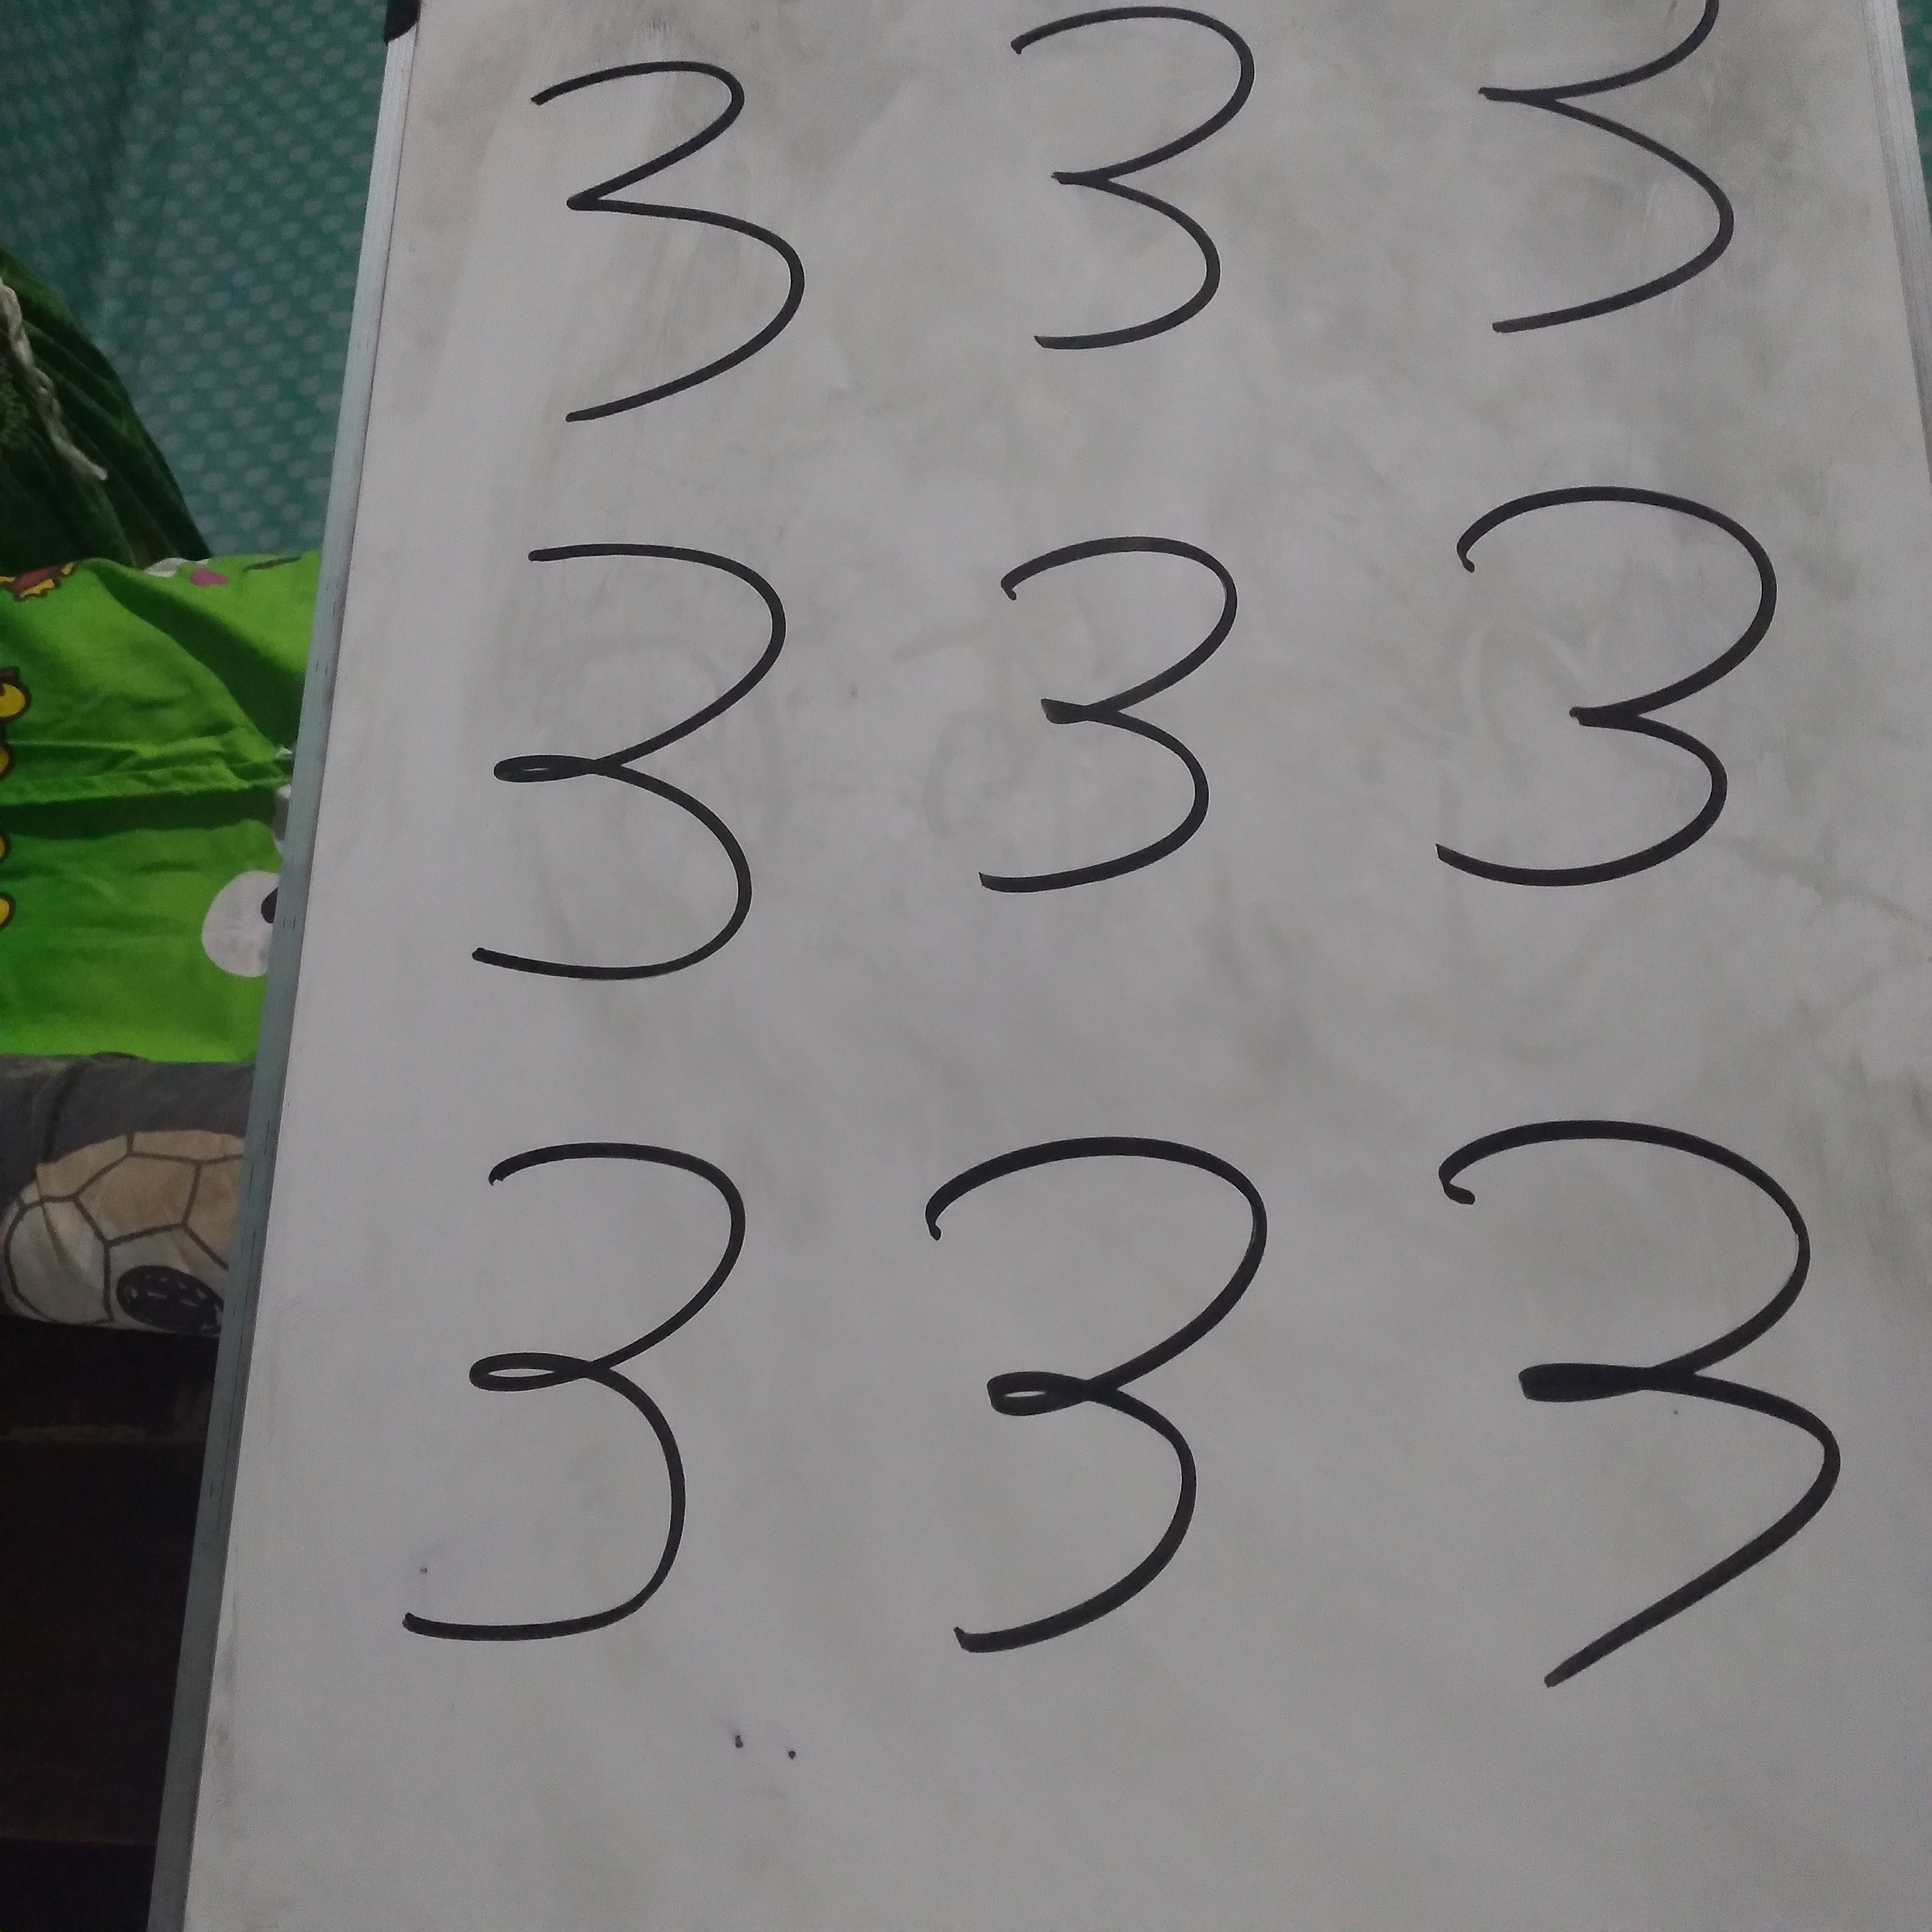num3: (895, 1103, 1321, 1675), (371, 1098, 797, 1670), (1430, 1118, 1856, 1690), (1431, 437, 1804, 898), (961, 485, 1335, 946), (457, 528, 831, 989), (955, 1, 1270, 426), (519, 21, 833, 447)
